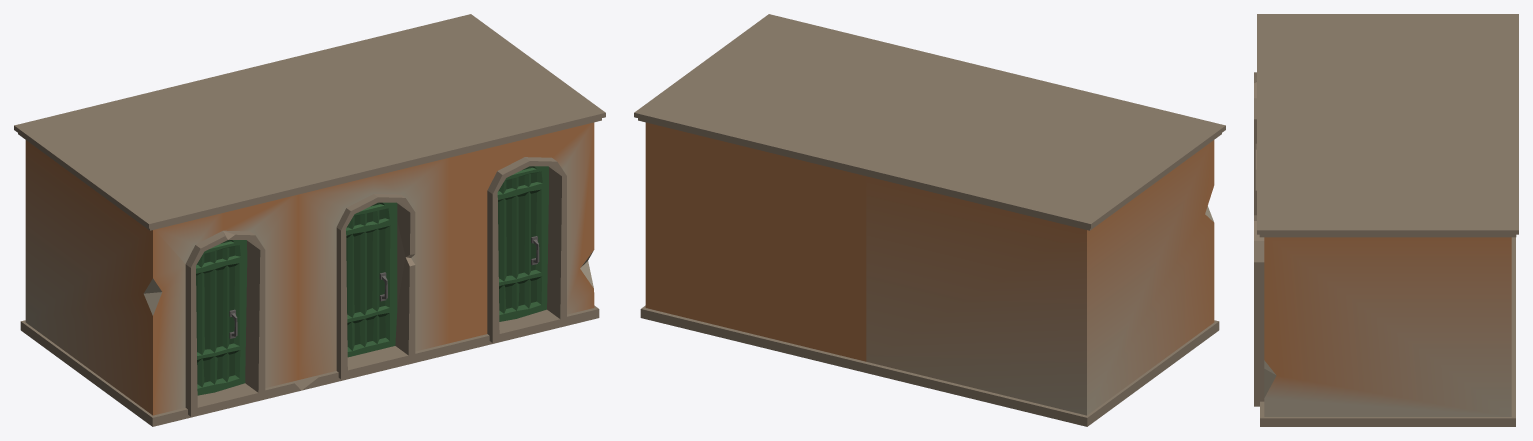
The model's file is SM_Bld_Cuba_Room_Long_04.glb.
The picture shows the model from 3 angles, left to right: view 1: azimuth 30°, elevation 25°; view 2: azimuth 150°, elevation 25°; view 3: azimuth 270°, elevation 25°; orthographic projection. The views are drawn at different scales.
Parts seen in each view (by area): view 1: SM_Bld_Cuba_Room_Long_04; view 2: SM_Bld_Cuba_Room_Long_04; view 3: SM_Bld_Cuba_Room_Long_04.
Boxes of the visible parts, x1=… form: SM_Bld_Cuba_Room_Long_04: x1=14, y1=14, x2=605, y2=426; SM_Bld_Cuba_Room_Long_04: x1=634, y1=14, x2=1225, y2=426; SM_Bld_Cuba_Room_Long_04: x1=1254, y1=14, x2=1518, y2=426.
Bounding box in the file's own units: 0.0776 × 0.0333 × 0.0402.
